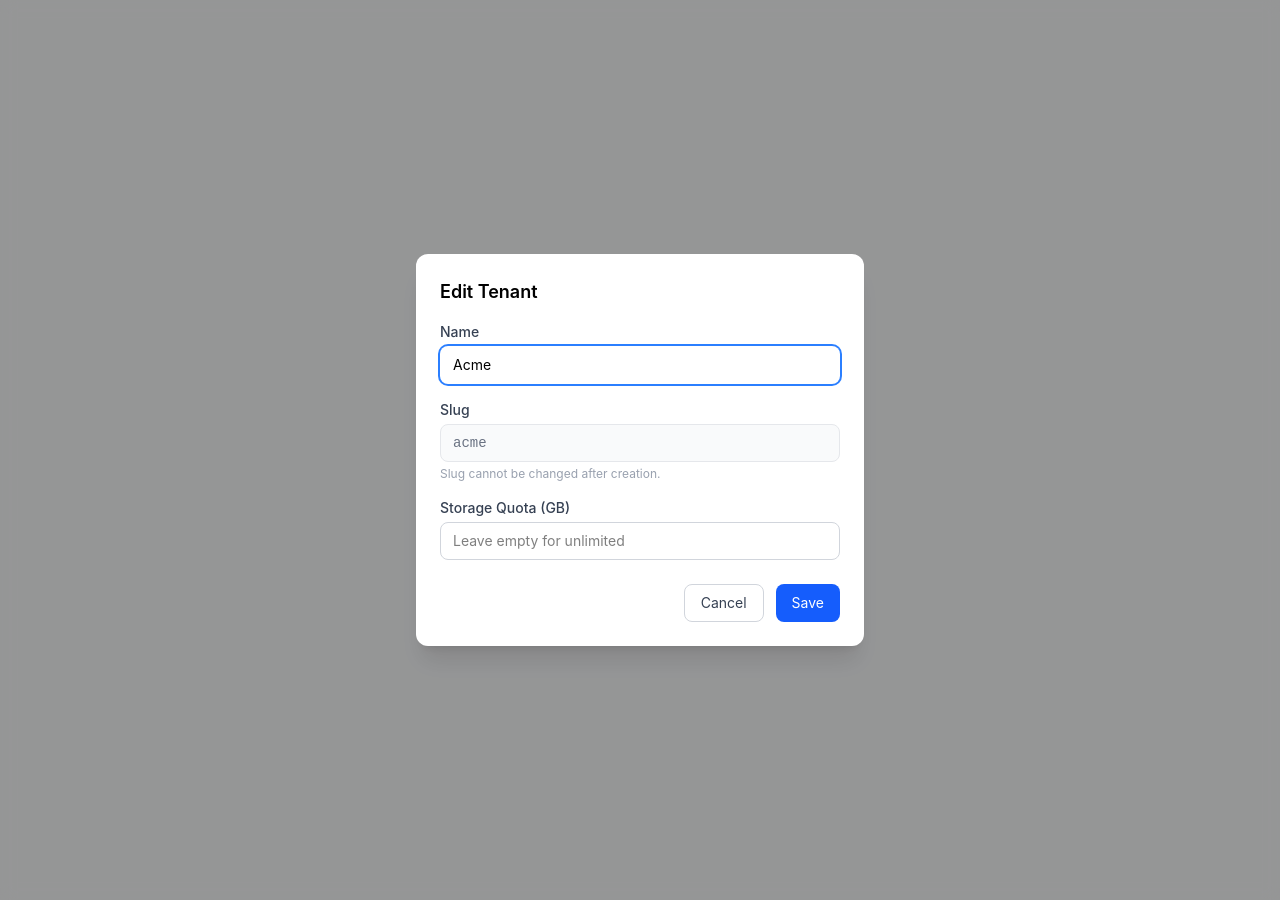
Test: EditTenantDialog › shows validation error for negative storage quota
The width and height of the screenshot is (1280, 900).
Type "-5" into the number field labelled "Storage Quota (GB)" at {"x": 640, "y": 541}, box [440,522,840,560]
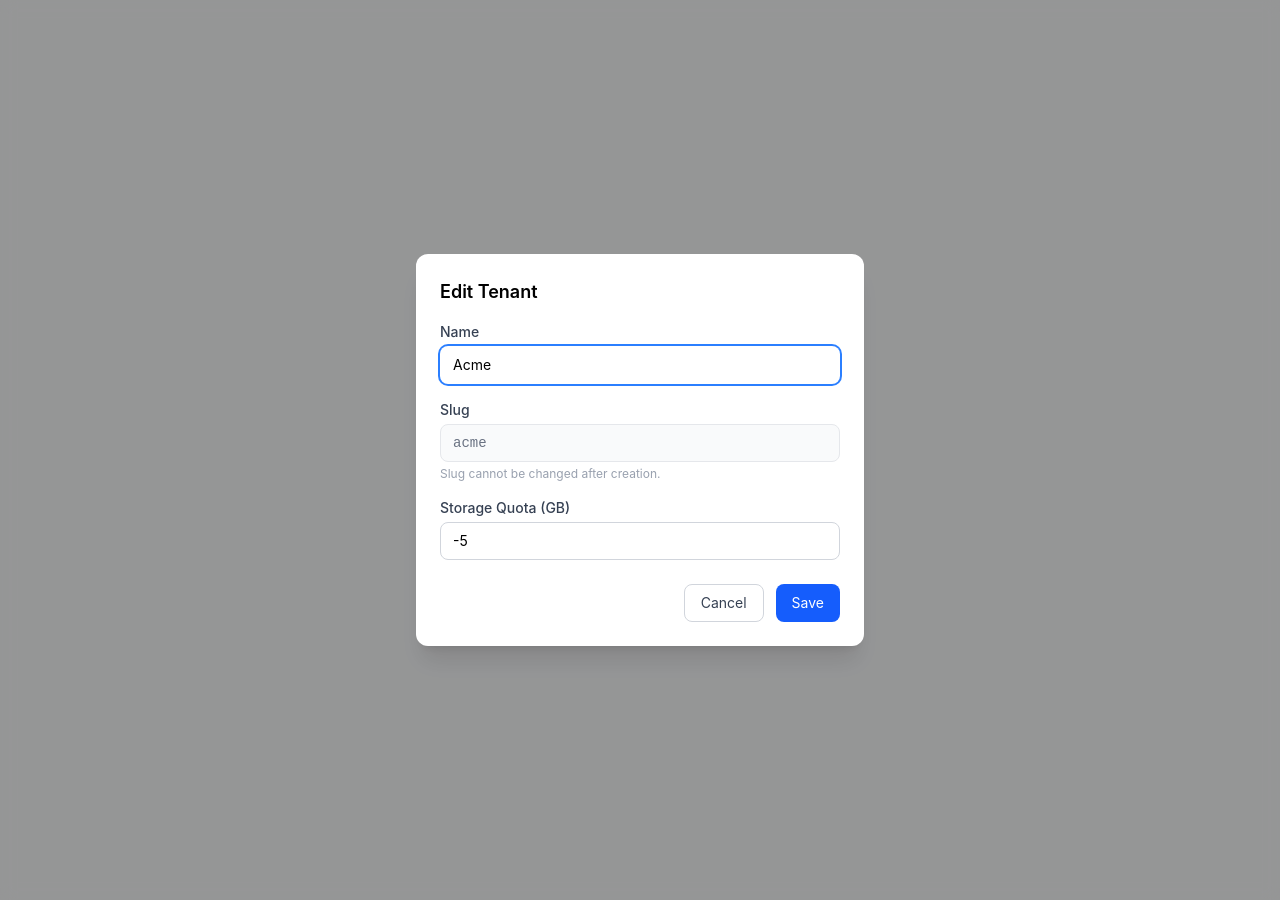
# Submit the form directly via fireEvent to bypass native HTML validation
Submit the form labelled "Storage Quota (GB)", box [440,322,840,622]
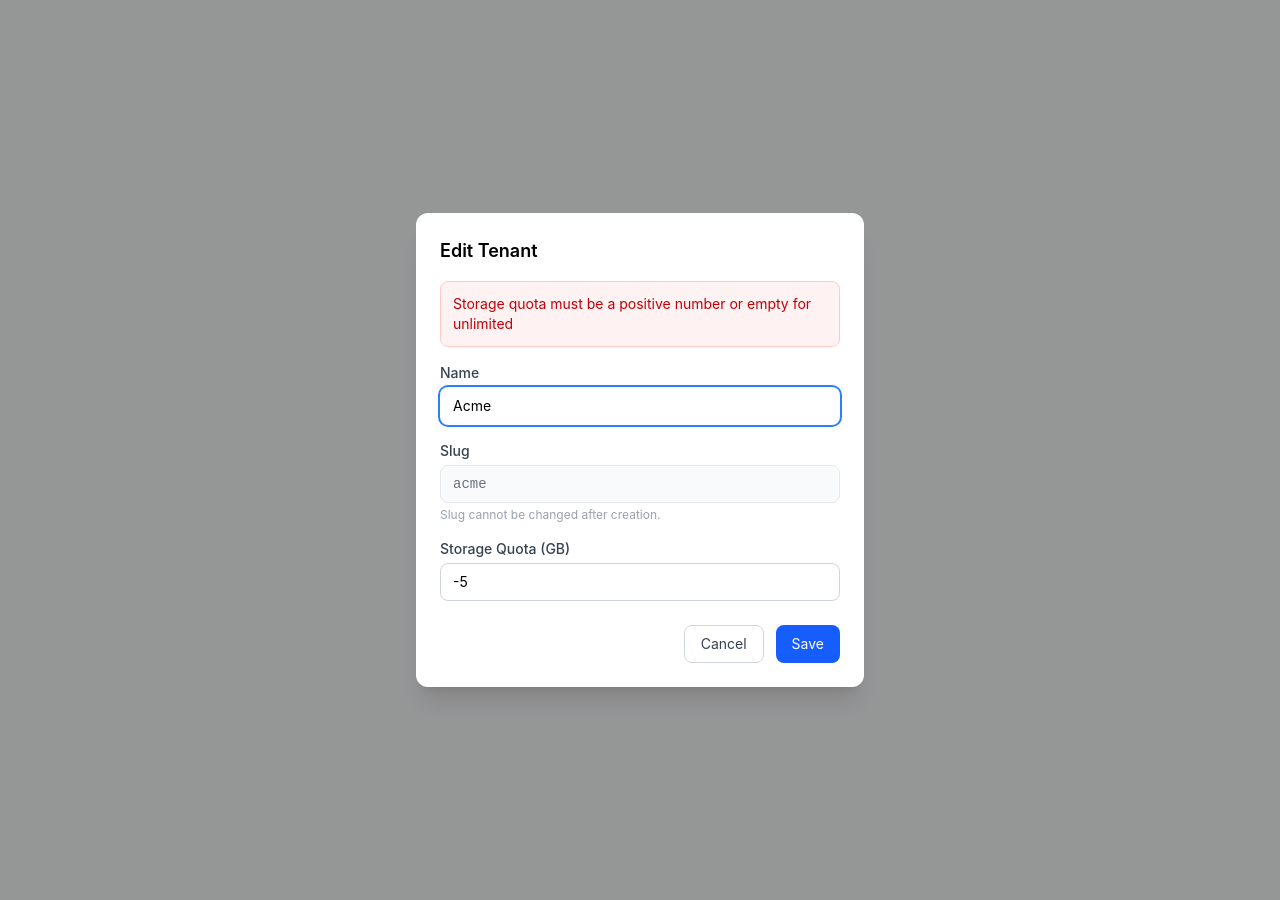
Result: the text "Storage quota must be a positive number or empty for unlimited" is shown at [440,281,840,347]
